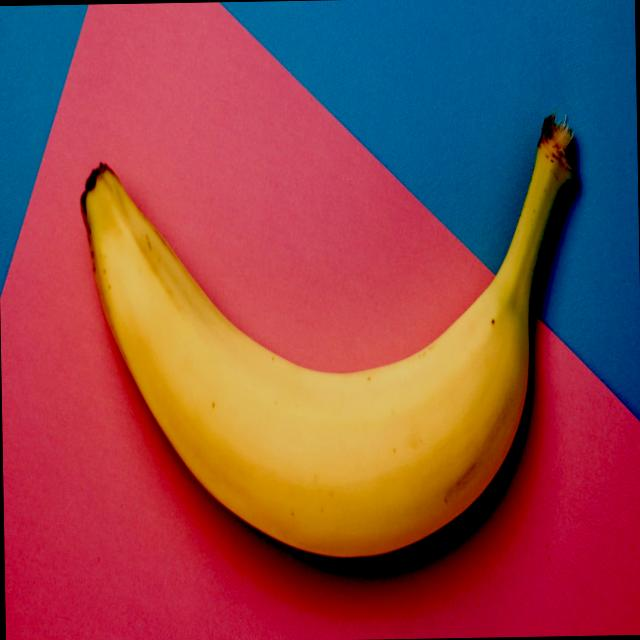banana: (70, 118, 580, 586)
